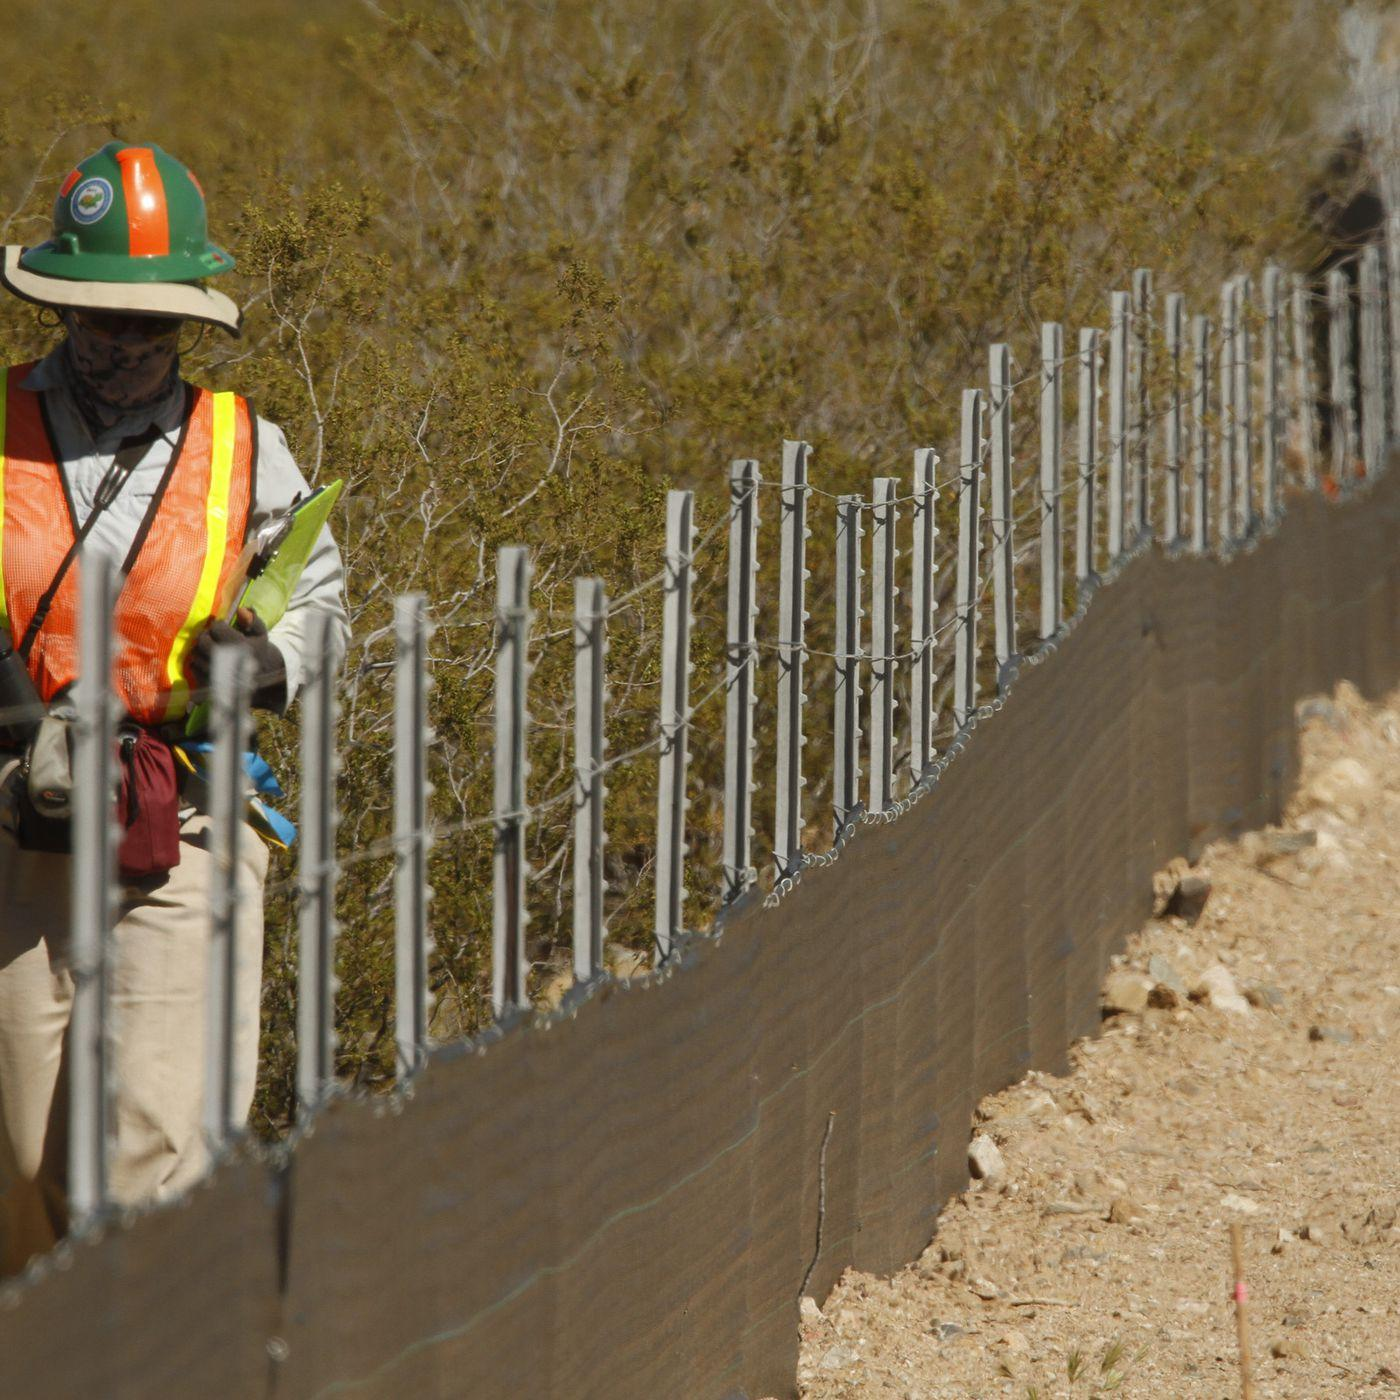helmet: (6, 138, 240, 335)
